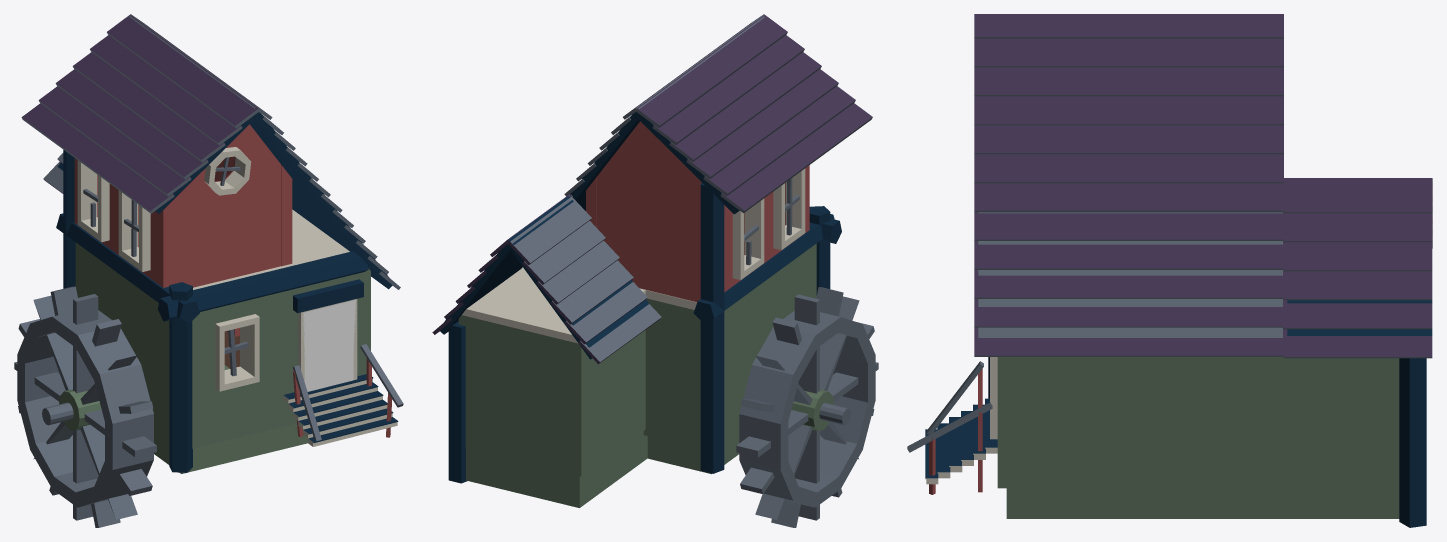
File: House2V3.fbx
3 views of the same model, side by side, from view 1: azimuth 30°, elevation 25°; view 2: azimuth 150°, elevation 25°; view 3: azimuth 270°, elevation 25° (orthographic). The views are drawn at different scales.
Parts seen in each view (by area): view 1: Cube, Cylinder, Cube.026, Cube.025, Cylinder.008, Cube.028, Stairs, Cube.007, Cube.023, Cube.036, Cube.038, Cube.009 (+5 smaller); view 2: Cube, Cylinder, Cube.026, Cube.025, Cube.034, Cylinder.008, Cube.001, Cube.023, Cylinder.010, Cube.028, Cube.031, Cube.036 (+4 smaller); view 3: Cube.028, Cube, Cube.032, Cylinder.010, Stairs, Cube.031, Cube.006, Cube.003, Cube.005.
Part boxes in pixels (box(x1,y1,x2,y2)): Cube: box(75, 242, 370, 473); Cylinder: box(14, 286, 156, 527); Cube.026: box(21, 15, 259, 213); Cube.025: box(74, 124, 292, 287); Cylinder.008: box(56, 150, 368, 472); Cube.028: box(128, 14, 400, 289); Stairs: box(283, 374, 398, 446); Cube.007: box(302, 300, 355, 391); Cube.023: box(193, 209, 349, 289); Cube.036: box(77, 160, 109, 242); Cube.038: box(118, 190, 150, 271); Cube.009: box(293, 279, 363, 313); Cube: box(458, 243, 816, 507); Cylinder: box(736, 287, 878, 527); Cube.026: box(636, 14, 872, 213); Cube.025: box(586, 121, 809, 302); Cube.034: box(508, 196, 661, 364); Cylinder.008: box(693, 182, 841, 473); Cube.001: box(643, 298, 700, 448); Cube.023: box(462, 267, 696, 343); Cylinder.010: box(448, 321, 467, 483); Cube.028: box(564, 14, 764, 210); Cube.031: box(440, 196, 573, 334); Cube.036: box(732, 198, 764, 280); Cube.028: box(974, 14, 1283, 356); Cube: box(997, 357, 1399, 518); Cube.032: box(1283, 178, 1432, 358); Cylinder.010: box(1399, 358, 1426, 527); Stairs: box(925, 398, 997, 484); Cube.031: box(1287, 300, 1432, 335); Cube.006: box(907, 402, 992, 452); Cube.003: box(990, 357, 997, 439); Cube.005: box(926, 361, 983, 434).
Bounding box in the file's own units: 2655 × 3759 × 3454.
